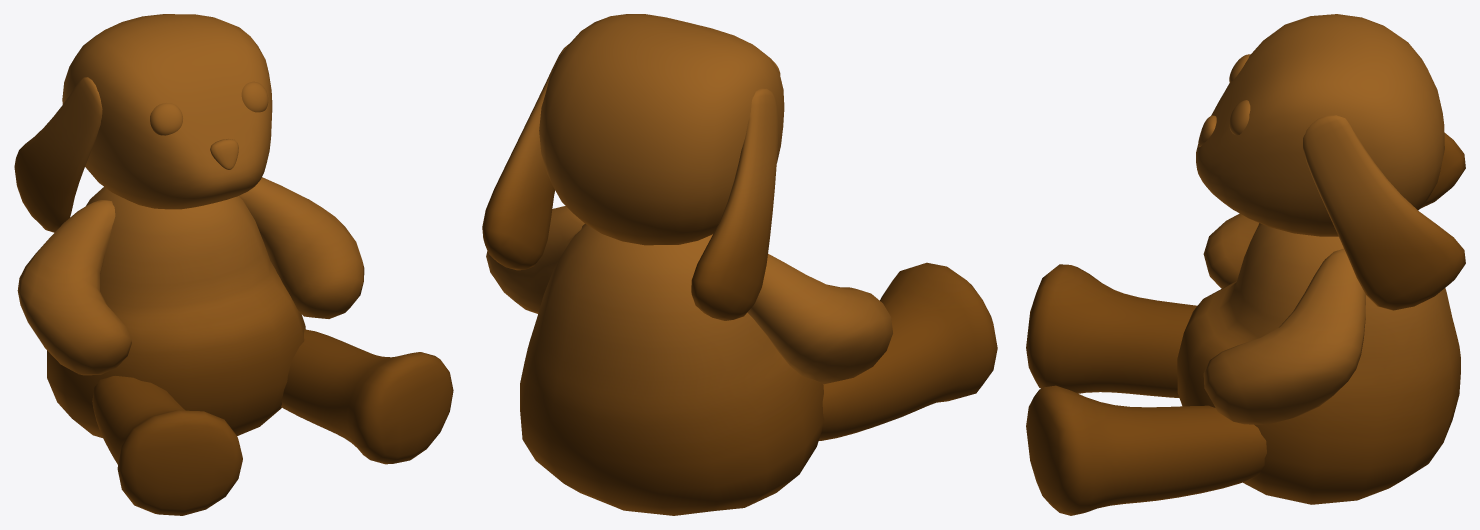
Rendered from SM_Peluche.fbx.
3 views of the same model, side by side, from view 1: azimuth 30°, elevation 25°; view 2: azimuth 150°, elevation 25°; view 3: azimuth 270°, elevation 25° (orthographic). The views are drawn at different scales.
Visible parts, largest first — view 1: body_peluche, head_peluche; view 2: body_peluche, head_peluche; view 3: body_peluche, head_peluche.
Part boxes in pixels (<box>): body_peluche: <box>17,177,453,515</box>; head_peluche: <box>14,14,272,232</box>; body_peluche: <box>486,206,997,515</box>; head_peluche: <box>482,14,784,320</box>; body_peluche: <box>1026,213,1460,515</box>; head_peluche: <box>1196,14,1465,310</box>.
Size of the model in its own units: 45.69 by 52.45 by 47.47.
